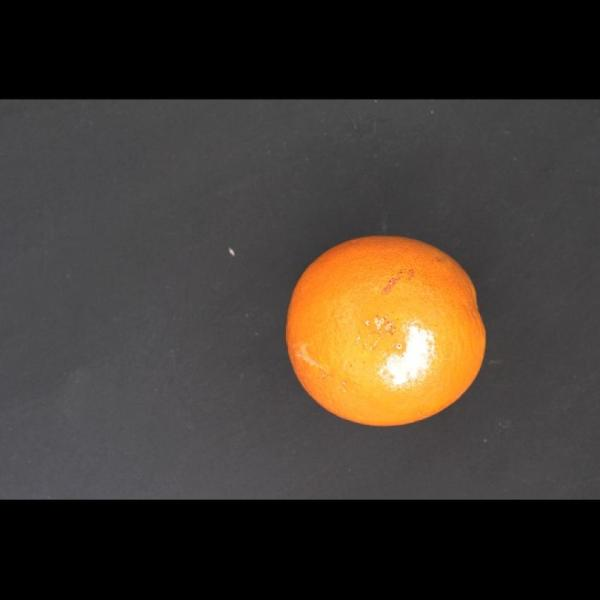Moho verde: (270, 232, 496, 436)
